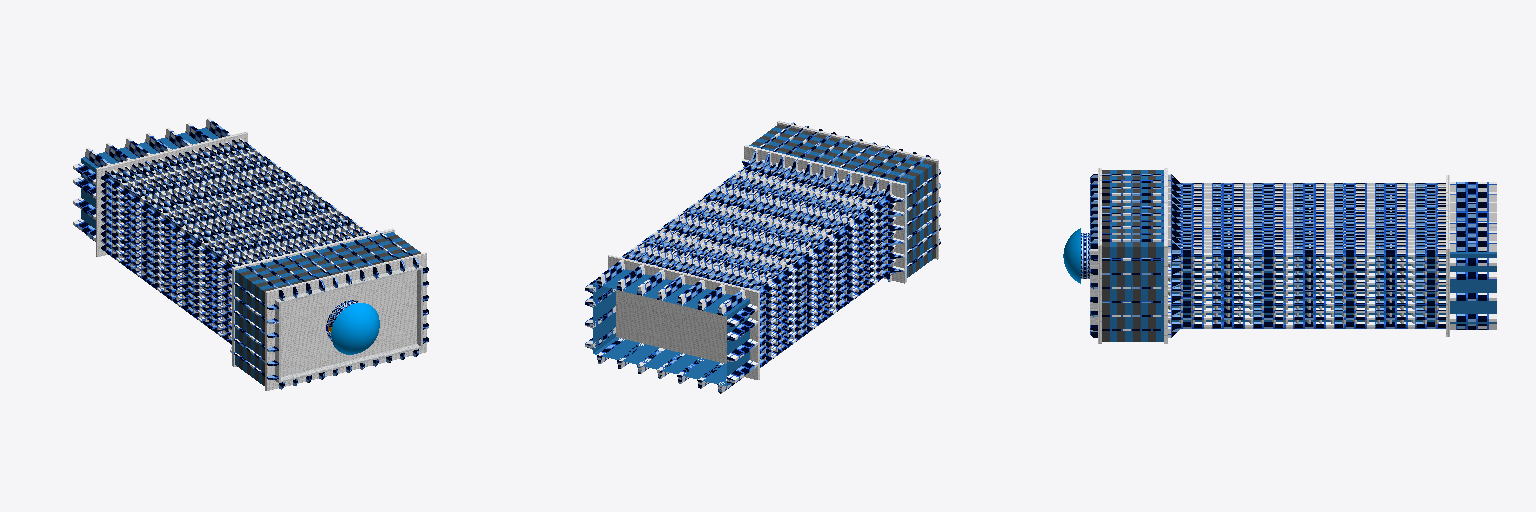
3 renders of one model, left to right at view 1: azimuth 30°, elevation 25°; view 2: azimuth 150°, elevation 25°; view 3: azimuth 270°, elevation 25°, orthographic.
Parts seen in each view (by area): view 1: wall_01, slab_01, horizontal_02, glass_01, glass2_01, roof_01; view 2: wall_01, slab_01, glass_01, horizontal_02, glass2_01; view 3: wall_01, glass_01, glass2_01, horizontal_02, slab_01, roof_01.
Part boxes in pixels (bbox=[...]): wall_01: bbox=[73, 118, 428, 389]; slab_01: bbox=[96, 132, 426, 390]; horizontal_02: bbox=[106, 143, 422, 382]; glass_01: bbox=[81, 128, 419, 383]; glass2_01: bbox=[239, 235, 420, 385]; roof_01: bbox=[331, 303, 379, 354]; wall_01: bbox=[585, 122, 940, 393]; slab_01: bbox=[608, 121, 938, 379]; glass_01: bbox=[593, 127, 931, 386]; horizontal_02: bbox=[629, 161, 893, 360]; glass2_01: bbox=[752, 124, 935, 276]; wall_01: bbox=[1090, 174, 1496, 337]; glass_01: bbox=[1110, 170, 1496, 341]; glass2_01: bbox=[1102, 170, 1155, 341]; horizontal_02: bbox=[1090, 183, 1438, 330]; slab_01: bbox=[1098, 168, 1449, 343]; roof_01: bbox=[1063, 228, 1080, 283].
Size of the model in its own units: 2880 by 1680 by 6715.
Materials: 9 (3 with a texture image).